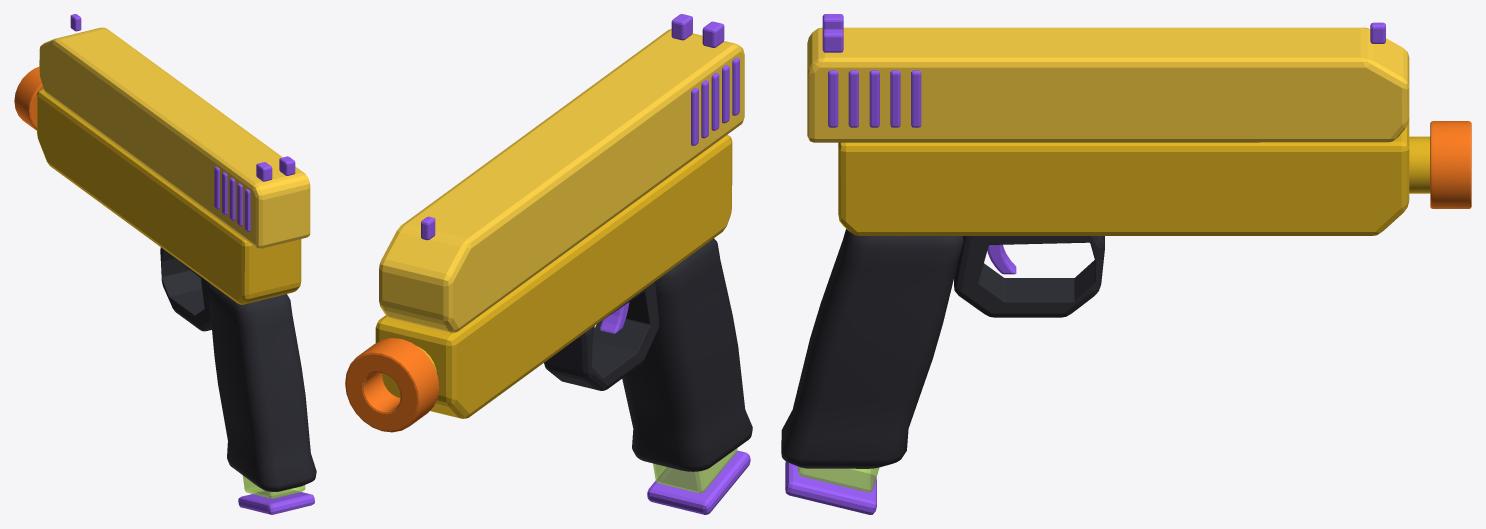
The picture shows the model from 3 angles, left to right: view 1: azimuth 30°, elevation 25°; view 2: azimuth 150°, elevation 25°; view 3: azimuth 270°, elevation 25°; orthographic projection. The views are drawn at different scales.
Visible parts, largest first — view 1: body, slide, mag; view 2: body, slide, mag, trigger; view 3: body, slide, mag.
Part boxes in pixels (box(x1,y1,x2,y2)): body: box(14, 67, 316, 491); slide: box(39, 14, 310, 248); mag: box(238, 475, 314, 514); body: box(345, 135, 752, 471); slide: box(379, 14, 744, 332); mag: box(647, 448, 750, 514); trigger: box(600, 302, 629, 333); body: box(781, 118, 1471, 468); slide: box(807, 14, 1409, 142); mag: box(785, 461, 879, 514).
Bounding box in the file's own units: 0.0364 × 0.203 × 0.266.
